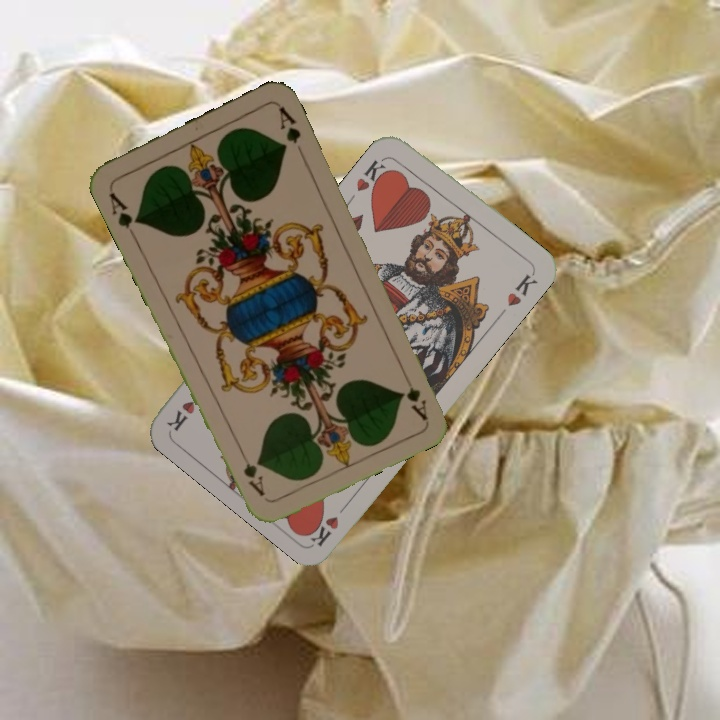GA: (397, 366, 430, 422), (105, 188, 143, 231)
HK: (304, 496, 354, 549), (352, 152, 394, 197)
